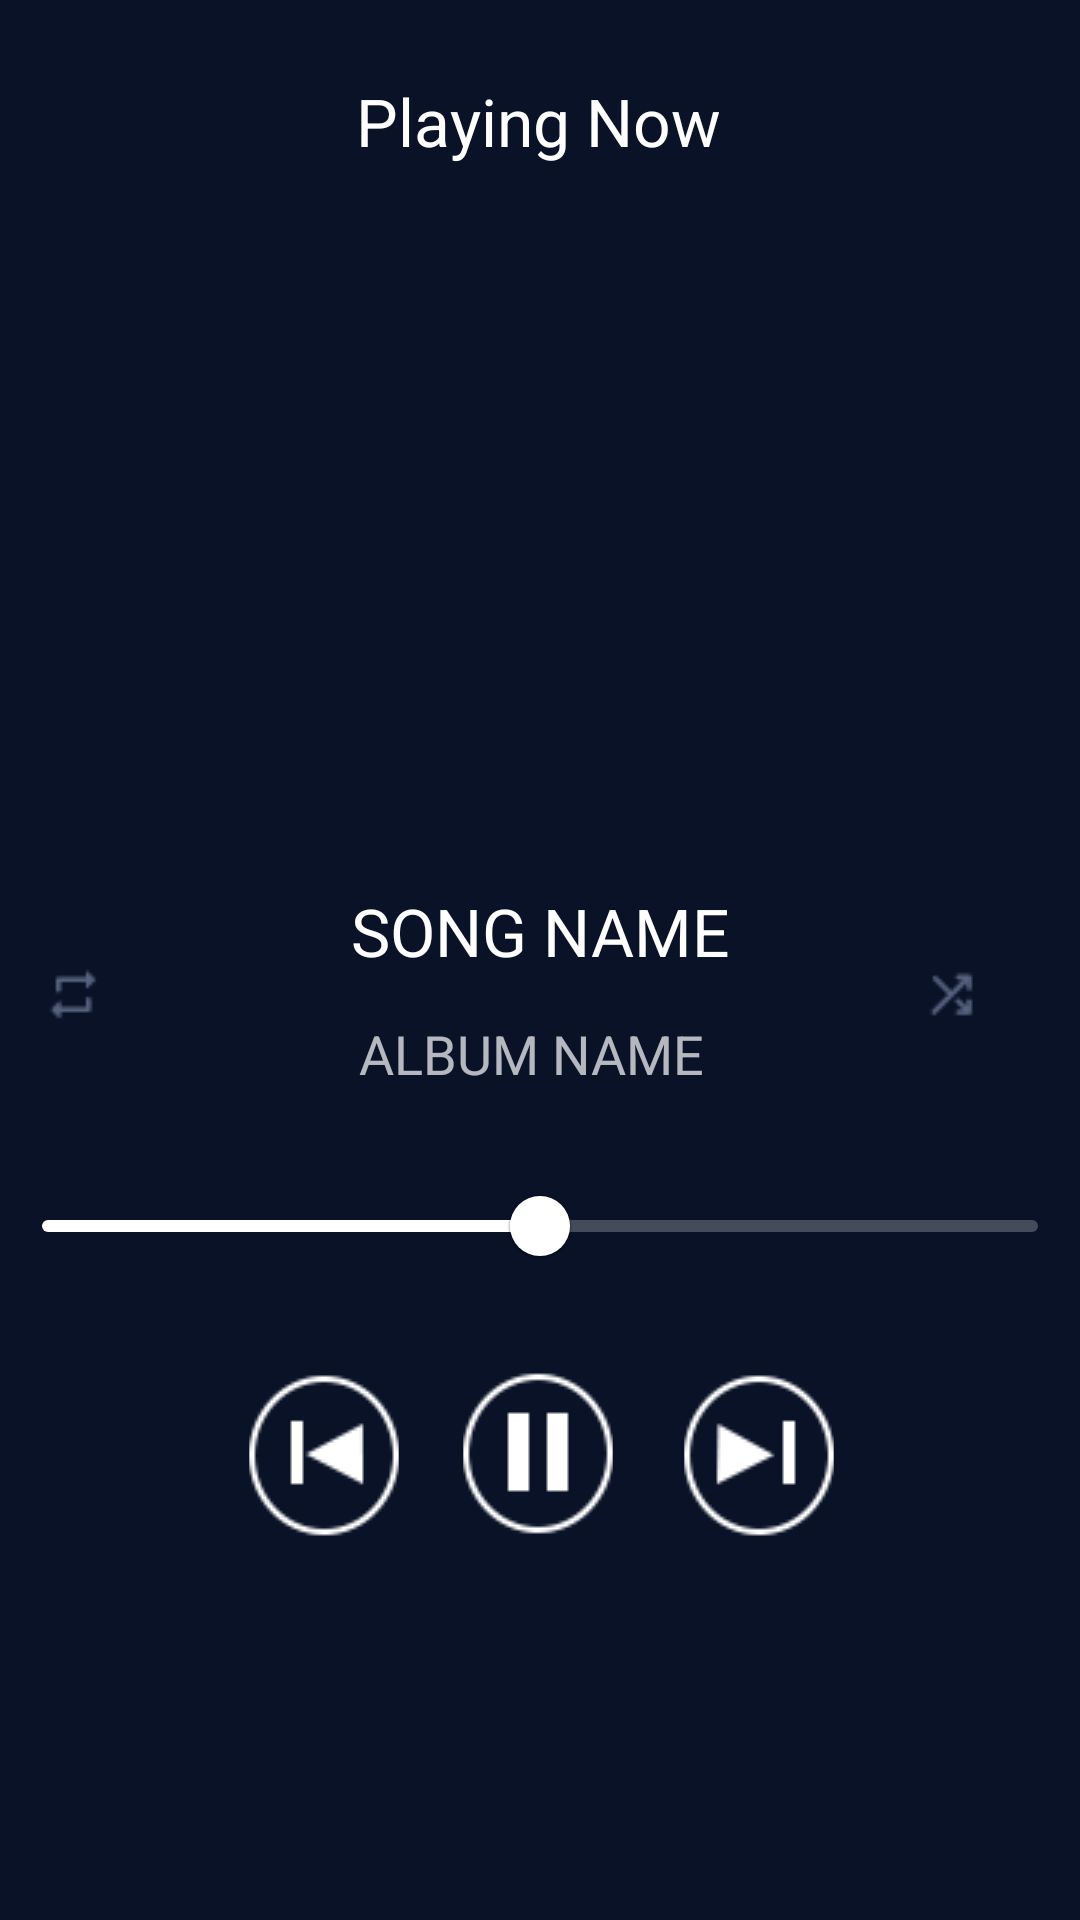

Icons on this 1080*1920 Android screen, each with the point to tap as (x=x, y=y):
circlepause: (x=538, y=1453)
next: (x=759, y=1455)
prev: (x=324, y=1455)
repeat: (x=73, y=994)
shuffle: (x=952, y=994)
